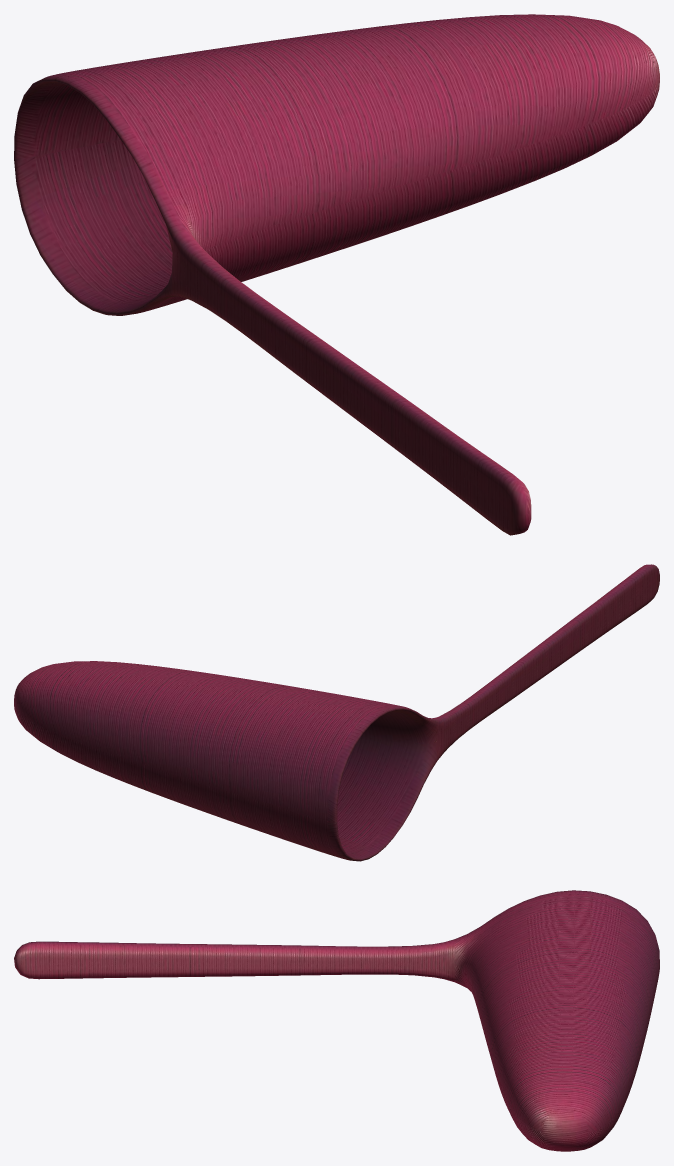
File: 08_Pelican.glb
3 renders of one model, top to bottom at view 1: azimuth 30°, elevation 25°; view 2: azimuth 150°, elevation 25°; view 3: azimuth 270°, elevation 25°, orthographic. The views are drawn at different scales.
Visible parts, largest first — view 1: 08_Pelican; view 2: 08_Pelican; view 3: 08_Pelican.
Part boxes in pixels (x1,y1,x2,y2): 08_Pelican: (14, 14, 659, 535); 08_Pelican: (14, 564, 659, 861); 08_Pelican: (14, 890, 659, 1151).
Size of the model in its own units: 0.1175 by 0.043 by 0.1828.
1 material, 1 textured.
